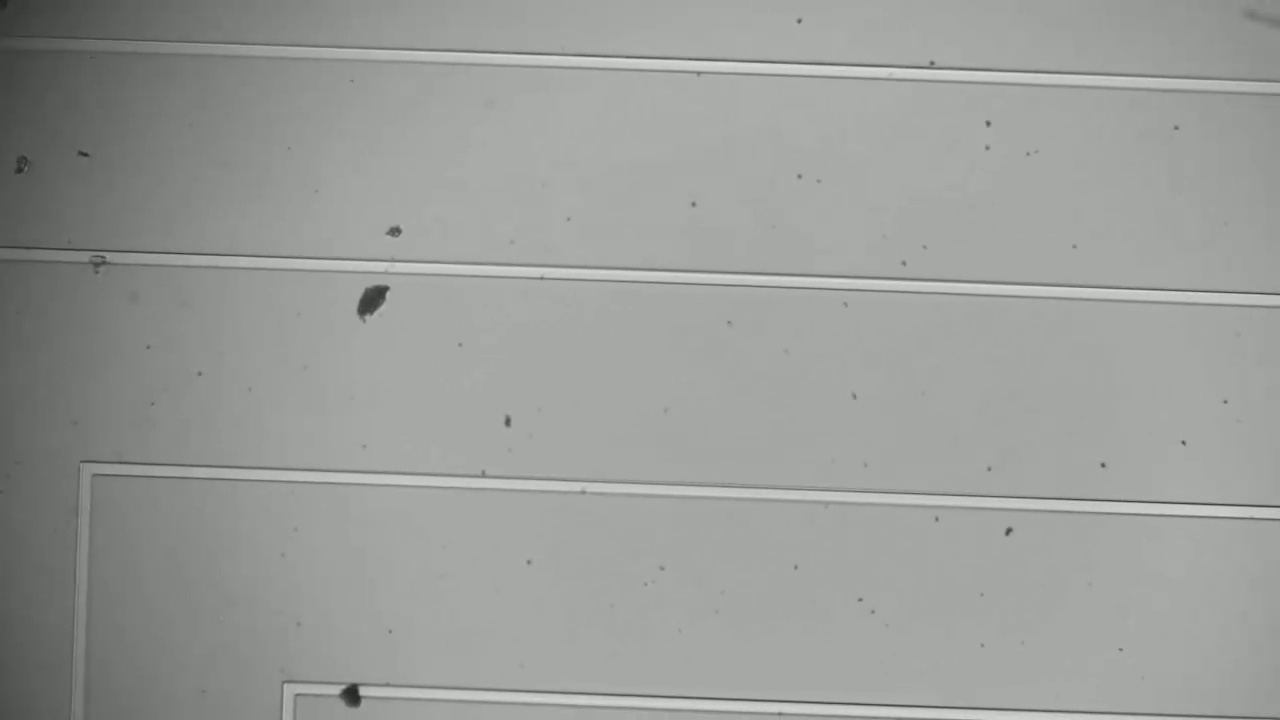stains_enbedded: (331, 673, 370, 718), (80, 237, 116, 278)
